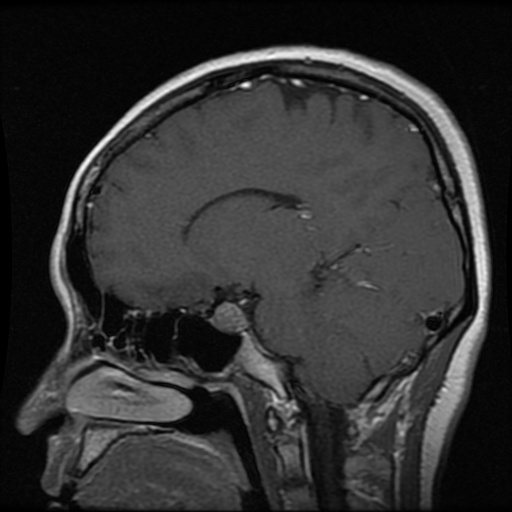pituitary: (211, 302, 245, 330)
